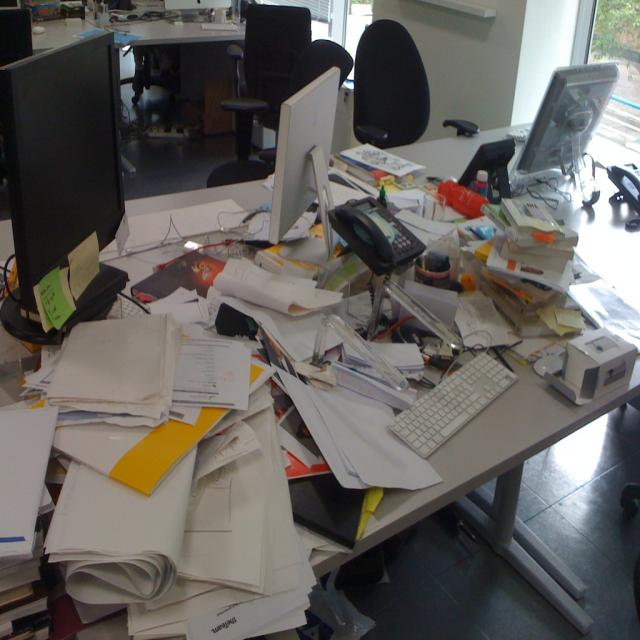chair: (207, 3, 312, 186), (351, 19, 432, 150), (291, 39, 354, 92), (0, 7, 33, 65)
desk: (55, 163, 596, 624)
keyboard: (386, 347, 518, 461), (335, 144, 427, 182)
tv: (1, 32, 128, 334), (508, 61, 620, 188), (267, 67, 341, 243)
